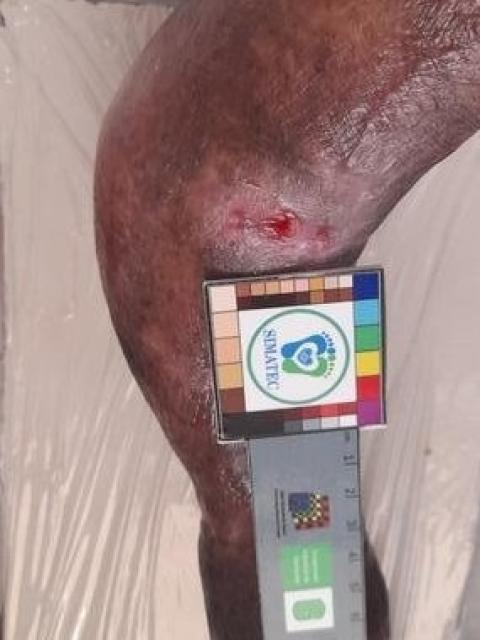wound: (214, 198, 305, 241), (307, 223, 344, 257)
